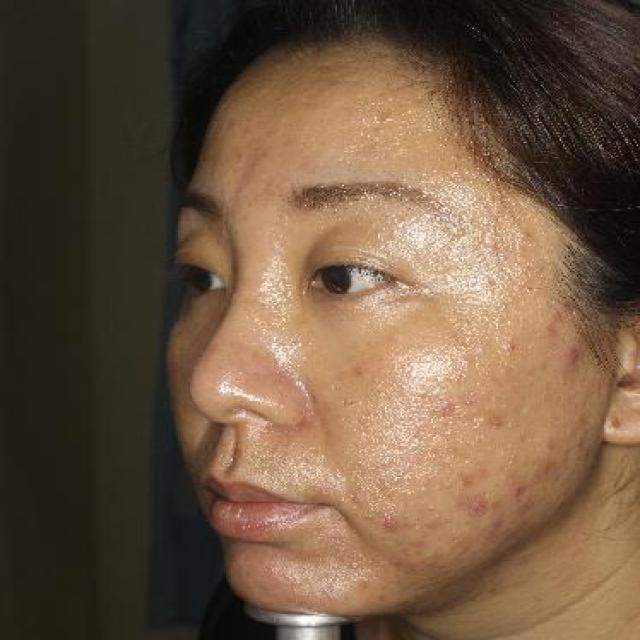blackheads: (514, 480, 532, 495)
dark spot: (428, 400, 462, 426), (484, 408, 514, 432)
papules: (556, 348, 587, 370)
pustules: (464, 492, 496, 520), (498, 334, 522, 358), (378, 515, 404, 534)
